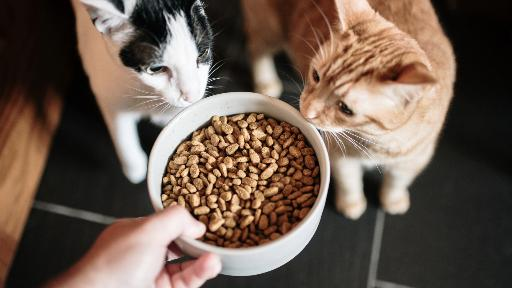cat_eating: (71, 0, 455, 275)
